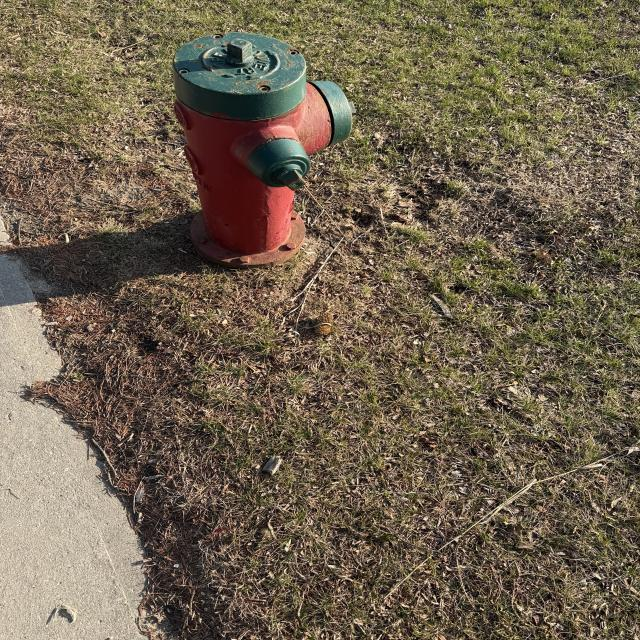Fire hydrant: (171, 32, 357, 270)
